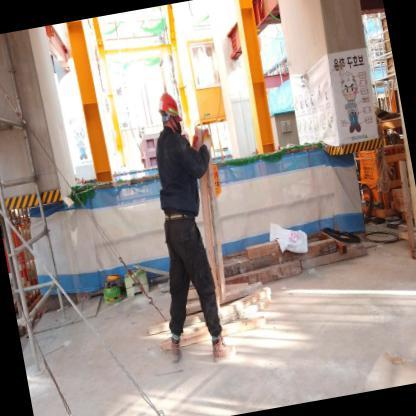Helmet: (152, 86, 191, 127)
safety-shoe: (207, 328, 239, 369), (162, 331, 188, 371)
